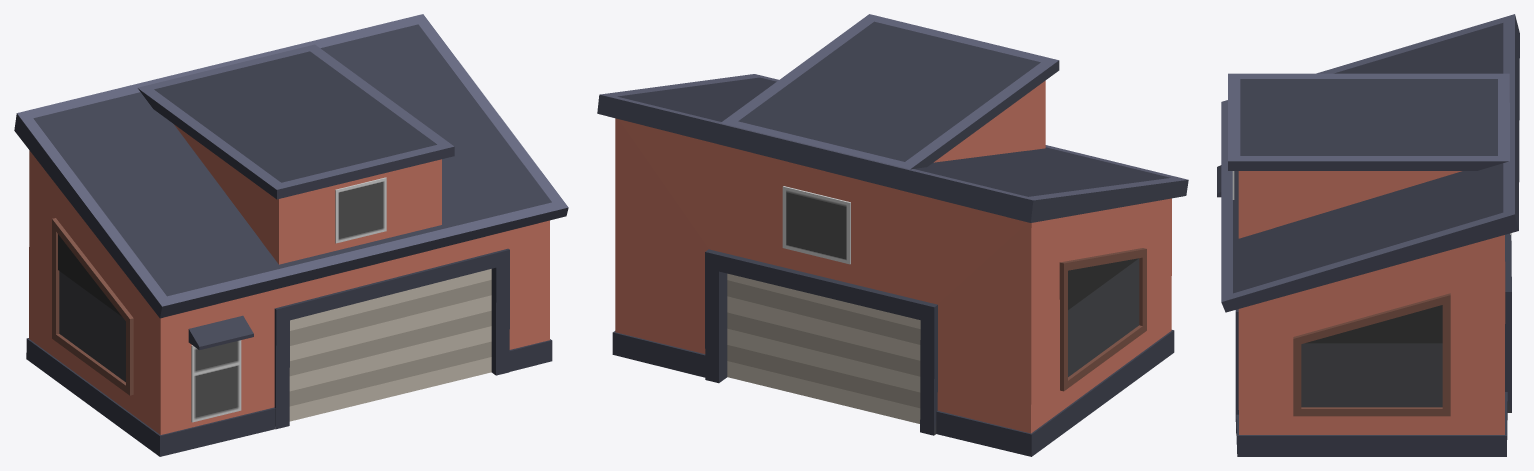
The model's file is garage01_color02.fbx.
3 renders of one model, left to right at view 1: azimuth 30°, elevation 25°; view 2: azimuth 150°, elevation 25°; view 3: azimuth 270°, elevation 25°, orthographic. The views are drawn at different scales.
Visible parts, largest first — view 1: garage01_color02; view 2: garage01_color02; view 3: garage01_color02.
Part boxes in pixels (box(x1,y1,x2,y2)): garage01_color02: box(14, 14, 568, 456); garage01_color02: box(597, 14, 1188, 456); garage01_color02: box(1217, 14, 1519, 456).
Size of the model in its own units: 997 by 573 by 637.
